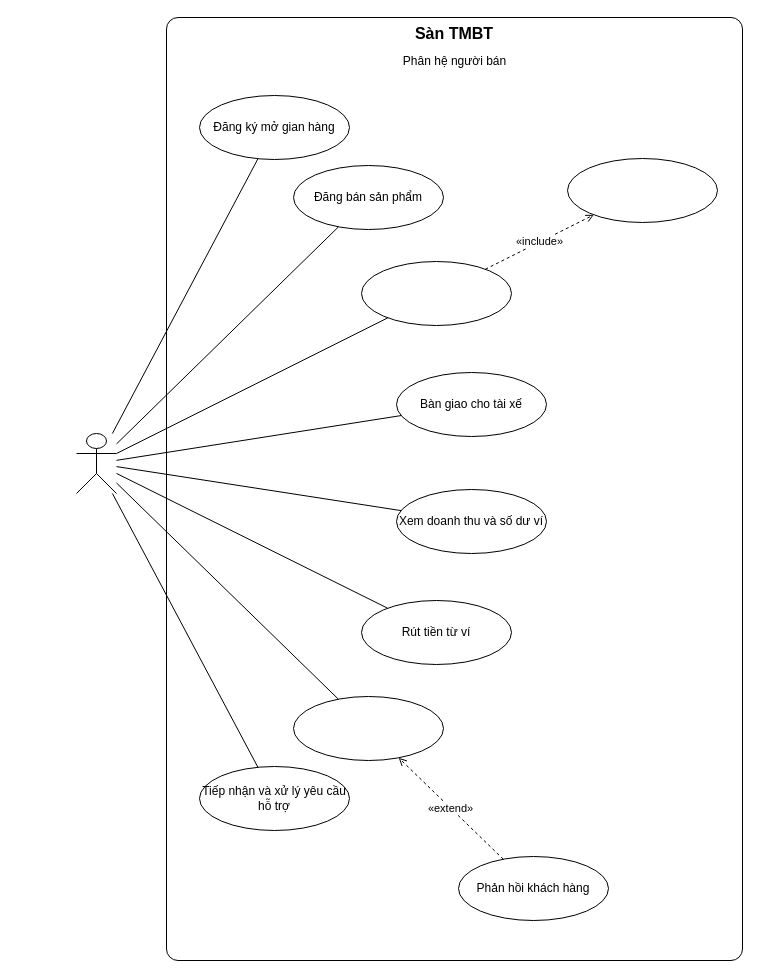
The diagram is 760 pixels wide and 978 high, and some of its shapes have lost their labels. The shapes that lost their labels are listed below. From the top down, each one's centre as x and y in pixels, then its label:
At pixel 642 190: "Đóng gói và in tem QR".
At pixel 436 293: "Tiếp nhận và xử lý đơn hàng".
At pixel 96 463: "Người bán".
At pixel 368 728: "Xem đánh giá sản phẩm".
